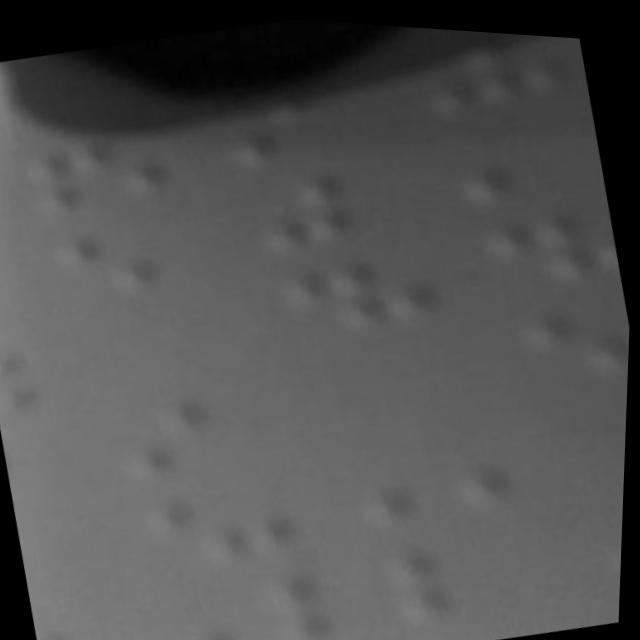braiile: (340, 410, 518, 532), (236, 141, 410, 264), (437, 85, 609, 209), (12, 118, 188, 237), (46, 200, 221, 318), (106, 371, 280, 487), (138, 466, 311, 578), (458, 182, 624, 297), (275, 231, 441, 344), (368, 517, 530, 630), (175, 558, 344, 640)
